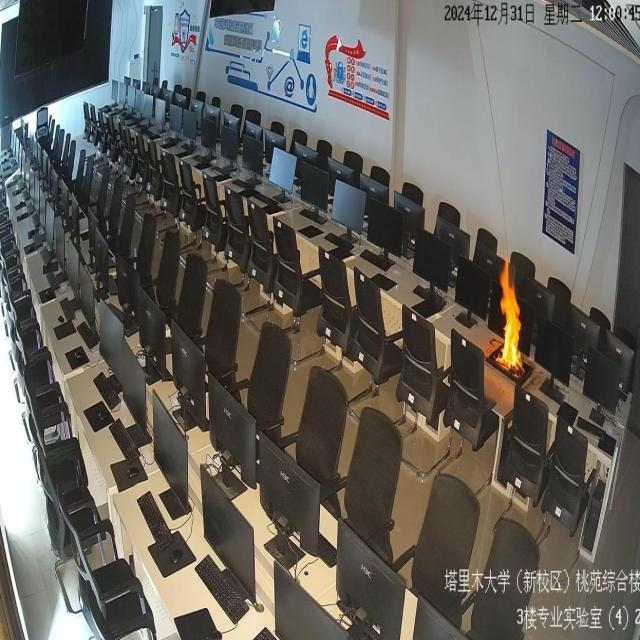smoke: (496, 260, 526, 372)
